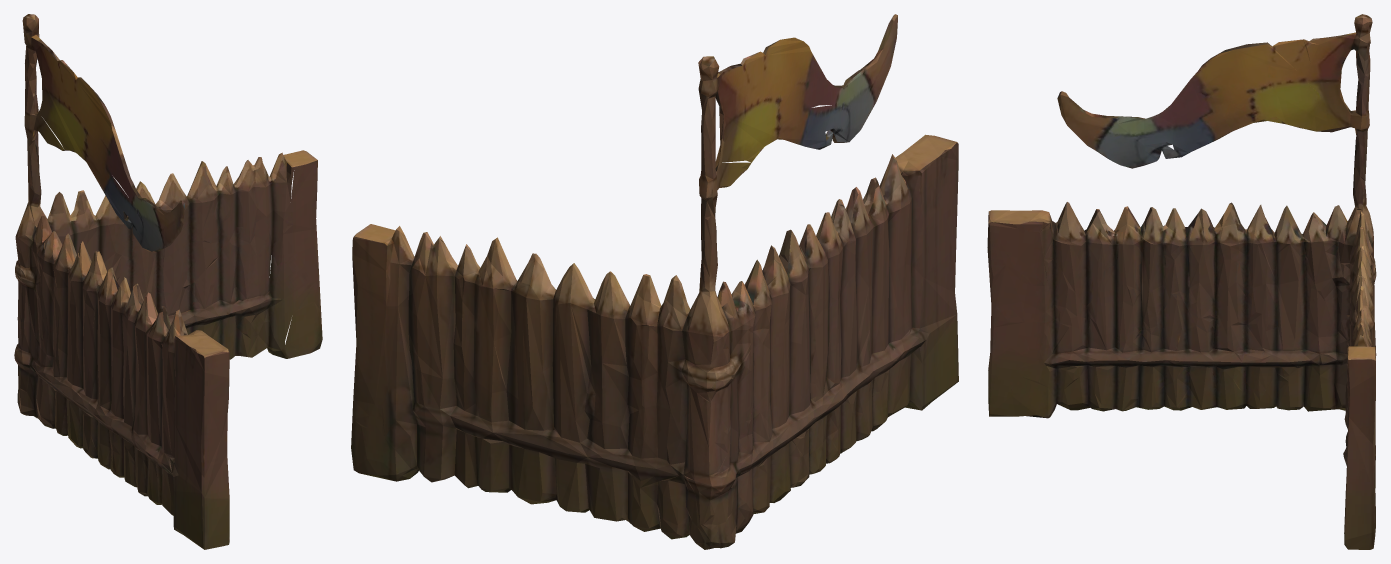
The model's file is palisade_corner.glb.
3 views of the same model, side by side, from view 1: azimuth 30°, elevation 25°; view 2: azimuth 150°, elevation 25°; view 3: azimuth 270°, elevation 25° (orthographic). The views are drawn at different scales.
Visible parts, largest first — view 1: geometry_0; view 2: geometry_0; view 3: geometry_0.
Part boxes in pixels (x1=…): geometry_0: x1=14, y1=14, x2=322, y2=549; geometry_0: x1=351, y1=14, x2=958, y2=549; geometry_0: x1=987, y1=14, x2=1376, y2=549.
Size of the model in its own units: 1.3 by 1.65 by 1.46.
1 material, 1 textured.
